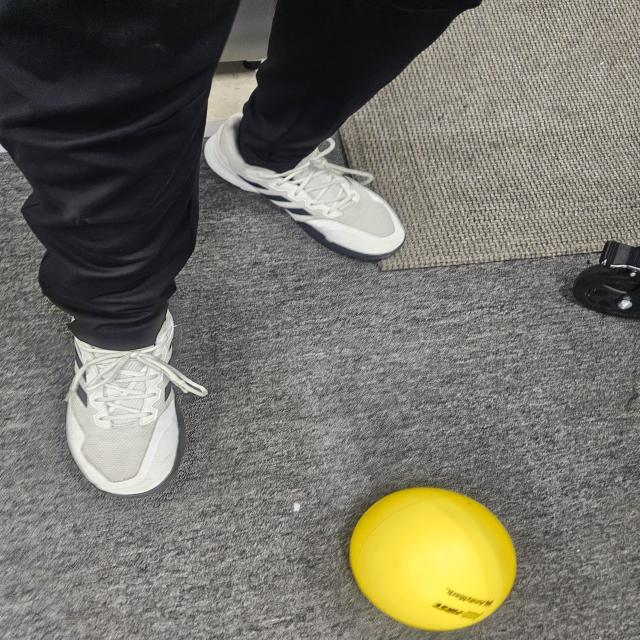Fuel: (337, 481, 528, 637)
